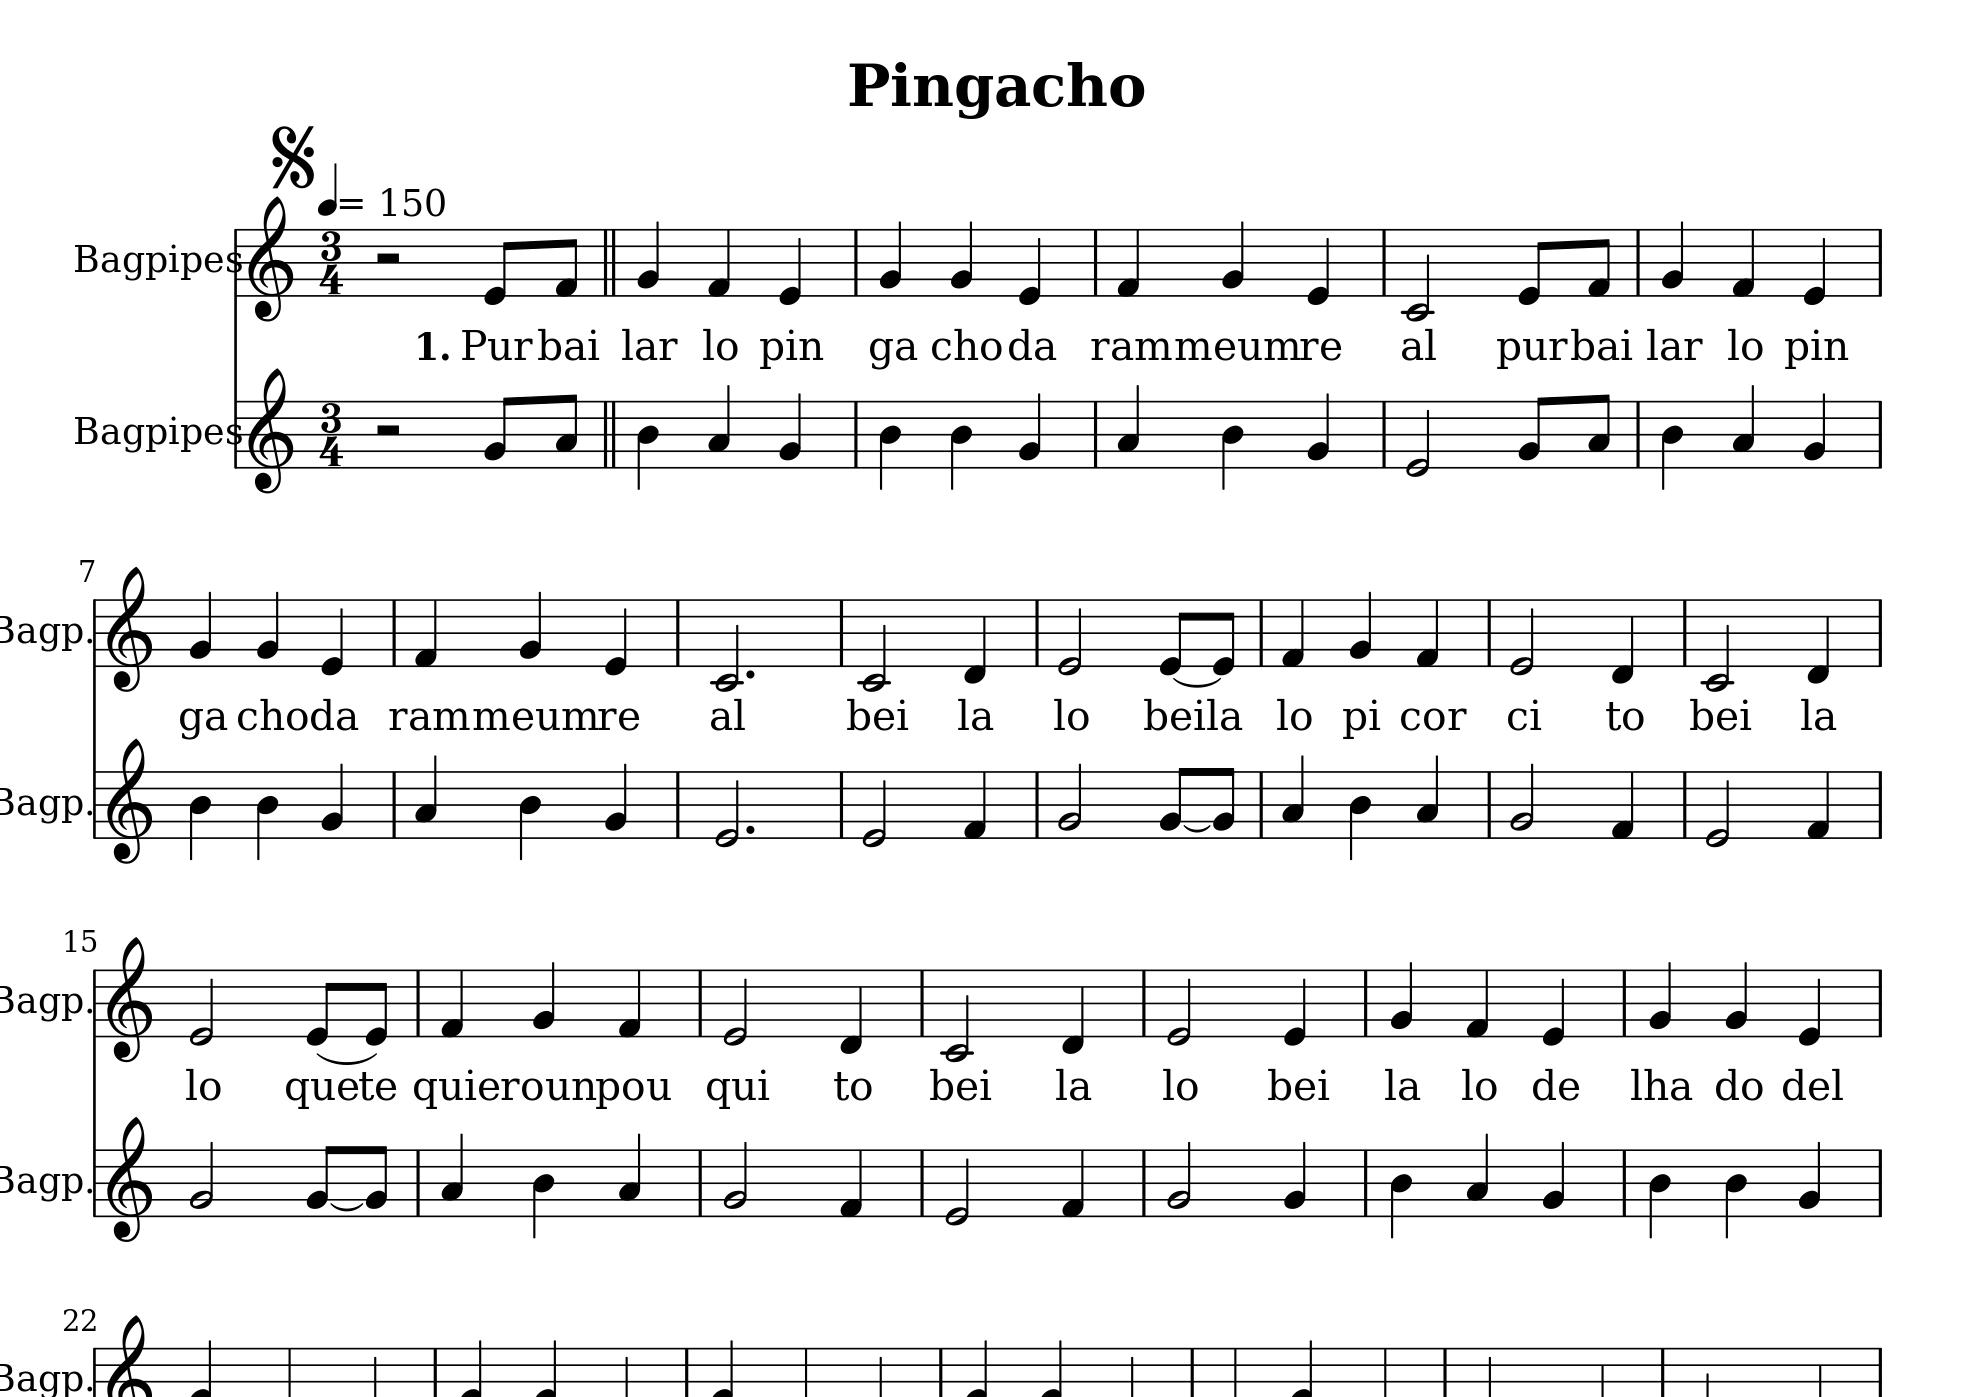0: (423, 184, 444, 218)
1: (379, 184, 398, 218), (63, 927, 77, 954)
2: (60, 1306, 79, 1332), (79, 1306, 97, 1332)
2_-2: (857, 597, 890, 692), (1401, 225, 1433, 322), (711, 597, 742, 692), (940, 968, 972, 1063), (1702, 597, 1733, 692)
2_0: (860, 767, 889, 850), (1055, 596, 1084, 677), (714, 768, 742, 850), (1164, 966, 1193, 1048), (1507, 596, 1536, 676), (1704, 768, 1733, 848), (187, 968, 216, 1048), (721, 966, 748, 1048), (1405, 398, 1432, 478), (943, 1146, 971, 1226)
2_2: (1507, 760, 1536, 841), (1055, 760, 1084, 839), (187, 1140, 216, 1219), (721, 1138, 750, 1217), (1166, 1138, 1194, 1217)
3: (319, 227, 343, 262), (319, 401, 345, 432)
4: (317, 432, 346, 466), (317, 262, 346, 293)
4_-1: (962, 596, 989, 685), (1805, 596, 1832, 685), (838, 968, 865, 1055), (1610, 596, 1636, 685), (1060, 966, 1086, 1055)
4_0: (1801, 225, 1828, 308), (603, 596, 630, 677), (1796, 968, 1823, 1048), (777, 225, 803, 308), (1017, 225, 1043, 307), (1305, 225, 1330, 307), (319, 596, 345, 677), (1282, 966, 1308, 1048), (1541, 968, 1566, 1048)
4_1: (1609, 770, 1637, 841), (1730, 225, 1757, 298), (1805, 768, 1832, 841), (705, 227, 732, 298), (1414, 597, 1441, 668), (962, 770, 989, 841), (438, 968, 466, 1039), (615, 968, 643, 1039), (1463, 968, 1491, 1039), (838, 1148, 865, 1219), (1060, 1148, 1087, 1219), (1281, 597, 1306, 668), (1116, 227, 1141, 296), (413, 597, 438, 667)
4_2: (187, 588, 215, 668), (1724, 959, 1751, 1039), (635, 219, 662, 298), (1282, 1140, 1309, 1219), (1660, 218, 1686, 298), (1017, 390, 1043, 470), (1802, 390, 1828, 470), (256, 588, 281, 668), (605, 760, 630, 841), (531, 959, 556, 1039), (1389, 959, 1415, 1039), (1648, 959, 1674, 1039), (1541, 1138, 1566, 1219), (1798, 1138, 1823, 1219), (878, 218, 904, 296), (949, 218, 975, 296), (1222, 218, 1247, 296), (1306, 392, 1332, 470), (519, 590, 544, 668), (1349, 590, 1374, 668), (779, 392, 803, 470), (321, 760, 345, 839)
4_3: (1116, 383, 1141, 469), (413, 753, 438, 839), (1465, 1131, 1491, 1217), (1281, 754, 1306, 839), (440, 1132, 466, 1217), (617, 1132, 643, 1217), (708, 383, 732, 469), (1731, 383, 1755, 469), (1415, 754, 1439, 839)
4_4: (877, 398, 903, 490), (1660, 398, 1686, 490), (1347, 768, 1373, 860), (635, 398, 661, 488), (517, 770, 543, 860), (531, 1148, 556, 1238), (1388, 1148, 1414, 1238), (1646, 1148, 1672, 1238), (1220, 398, 1244, 490), (187, 770, 212, 862), (949, 398, 974, 488), (256, 770, 280, 860), (1724, 1148, 1748, 1238)
5: (401, 184, 422, 218), (82, 925, 97, 952)
7: (79, 556, 95, 584)
8_0: (482, 227, 516, 307), (305, 968, 339, 1048), (1516, 227, 1550, 305), (1158, 597, 1190, 676), (1211, 597, 1237, 677), (364, 968, 390, 1048)
8_1: (1584, 225, 1613, 299), (553, 227, 581, 299)
8_2: (482, 395, 516, 469), (1516, 395, 1550, 469), (1157, 765, 1190, 839), (304, 1143, 337, 1217), (1213, 765, 1237, 841), (364, 1143, 389, 1219)
8_3: (553, 392, 579, 470), (1586, 392, 1612, 470)
Double_barline: (599, 399, 621, 469), (600, 227, 620, 296)
Gclef: (246, 366, 296, 496), (246, 195, 296, 324), (104, 736, 154, 865), (104, 934, 154, 1063), (104, 565, 154, 692), (104, 1114, 153, 1244)
Rests2: (370, 420, 404, 438), (372, 249, 404, 266)
Segno: (266, 121, 319, 190)
Single_barline: (228, 225, 245, 296), (1630, 401, 1646, 467), (1872, 771, 1888, 838), (410, 1149, 426, 1216), (230, 399, 245, 469), (411, 968, 426, 1037), (1089, 228, 1104, 296), (1873, 228, 1888, 296), (1377, 401, 1392, 469), (1873, 401, 1888, 469), (1253, 599, 1268, 667), (1030, 770, 1045, 838), (1253, 770, 1268, 838), (692, 971, 708, 1039), (848, 401, 863, 467), (670, 771, 685, 838), (835, 771, 850, 838), (1873, 971, 1888, 1037), (915, 1149, 930, 1216), (1089, 401, 1104, 466), (387, 773, 402, 838), (1677, 773, 1692, 838), (1358, 1149, 1373, 1214), (1873, 1151, 1888, 1216), (88, 770, 101, 839), (1631, 228, 1645, 296), (88, 599, 101, 667), (88, 969, 101, 1037), (88, 1149, 101, 1217), (850, 230, 863, 296), (389, 599, 402, 665), (835, 600, 848, 667), (1873, 600, 1887, 667), (1137, 1149, 1151, 1216), (1483, 773, 1497, 838), (1359, 971, 1373, 1036), (1618, 971, 1631, 1036), (694, 1151, 708, 1216), (1618, 1151, 1631, 1214), (671, 600, 683, 667), (88, 1347, 101, 1395)
Slur: (316, 1049, 378, 1064), (1172, 674, 1222, 688), (330, 1200, 364, 1211), (1182, 821, 1213, 833)
Speed4: (317, 160, 367, 215)
TimeSig: (317, 401, 346, 467), (317, 227, 345, 295)
dot: (742, 667, 757, 682), (742, 821, 756, 835)
